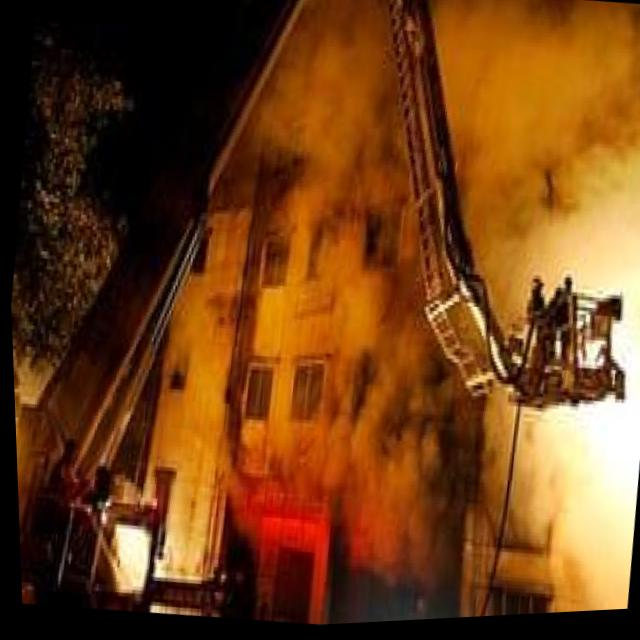fire: (551, 264, 640, 499)
